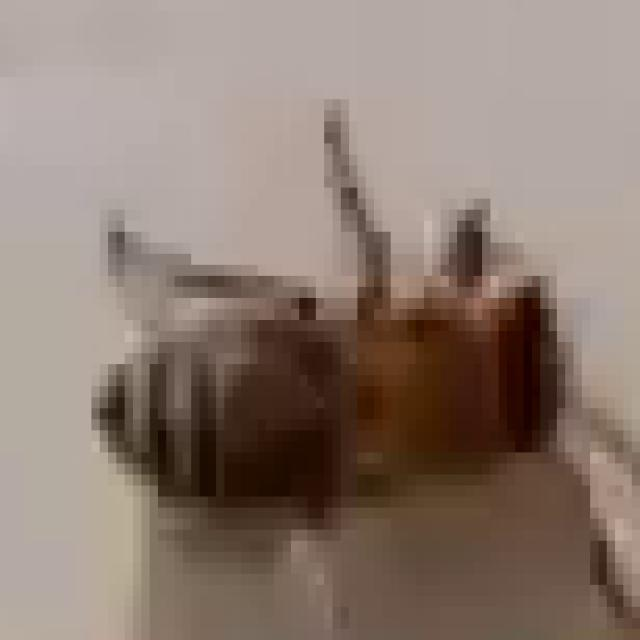honeybee: (95, 175, 565, 562)
